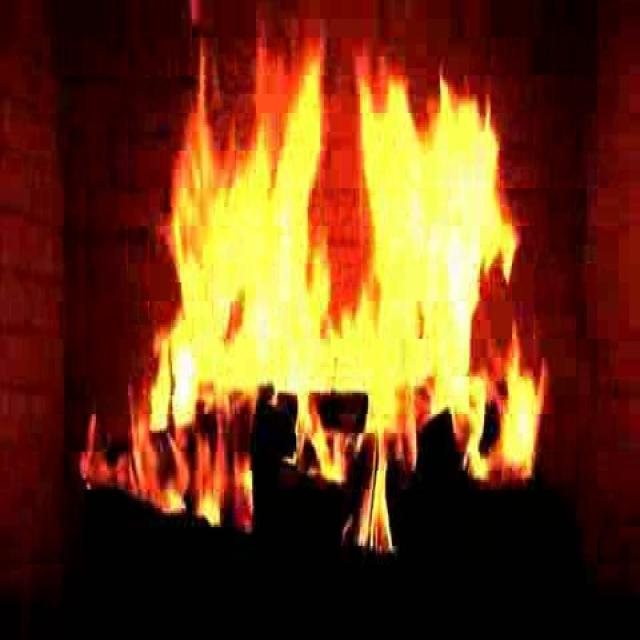Fire: (73, 38, 550, 553)
